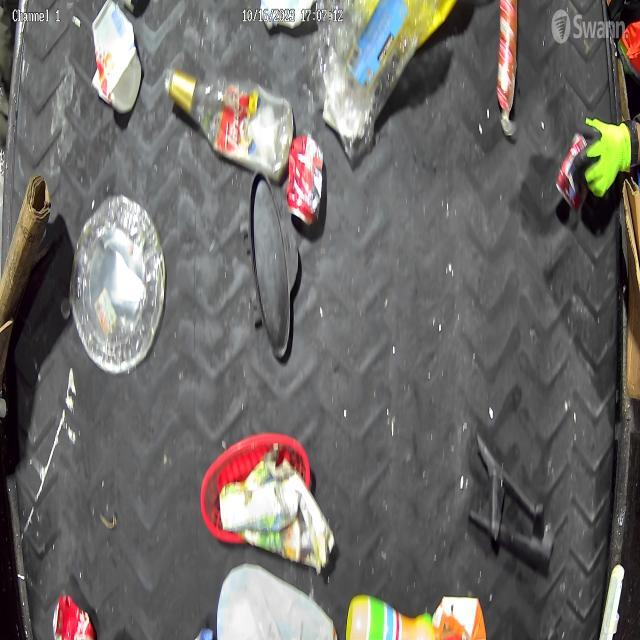can: (48, 594, 99, 640)
milk_jug: (211, 563, 338, 640)
plastic_bottle: (165, 54, 292, 180)
